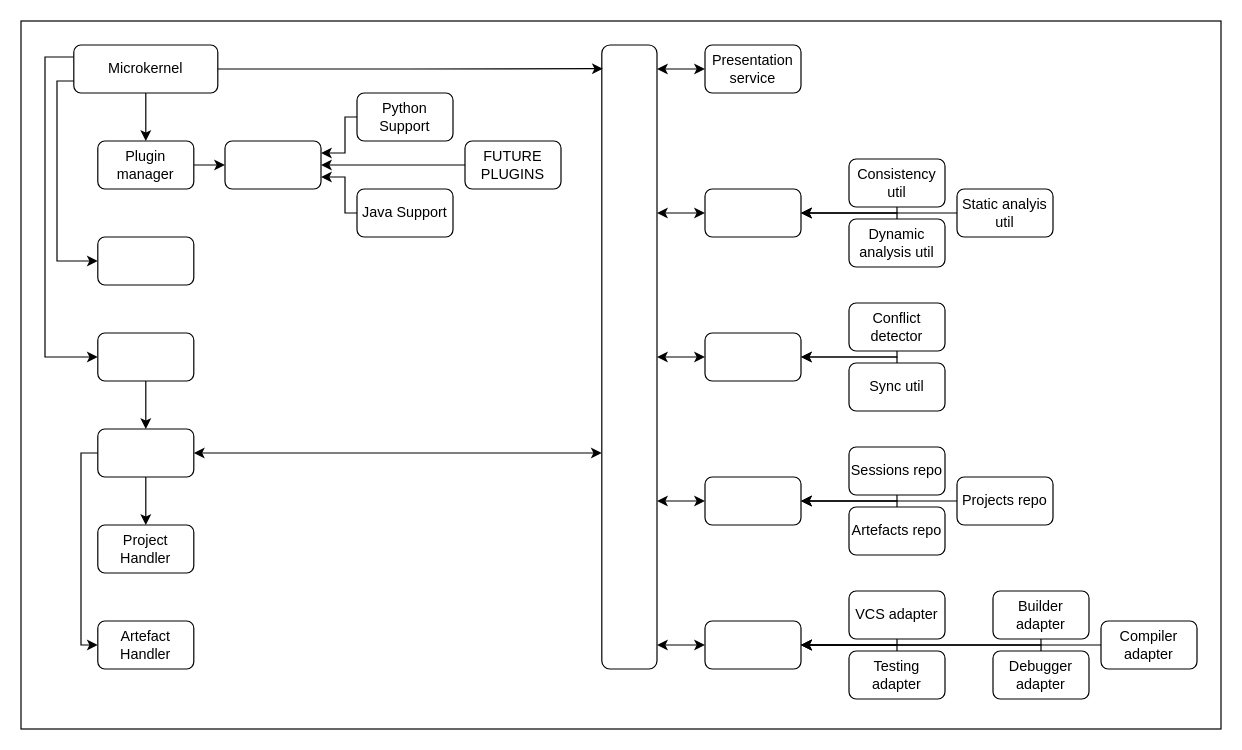
Image size: 1242x750. Some labels were removed from this diagram. Here are the shapes that lost their labels. From the top down, the centre of each, then its label:
At point 272,164: "Plugin interface".
At point 752,212: "Analysis service".
At point 145,260: "Lifecycle manager".
At point 145,356: "Project manager".
At point 629,356: "E V E N T B U S".
At point 752,356: "Collaboration service".
At point 145,452: "Project Service".
At point 752,500: "Persistance service".
At point 752,644: "Integration service".
